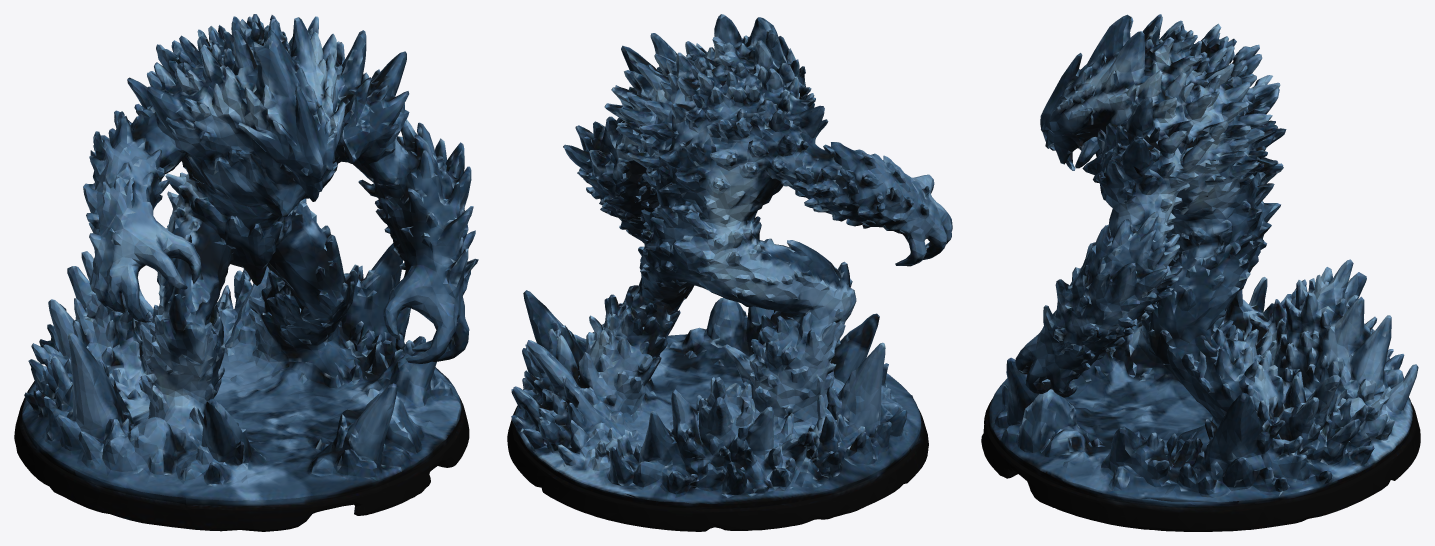
File: elemental_gelo.glb
3 views of the same model, side by side, from view 1: azimuth 30°, elevation 25°; view 2: azimuth 150°, elevation 25°; view 3: azimuth 270°, elevation 25° (orthographic). The views are drawn at different scales.
Visible parts, largest first — view 1: tmprua6iiql.ply; view 2: tmprua6iiql.ply; view 3: tmprua6iiql.ply.
Boxes of the visible parts, x1,y1,x2,y2 form: tmprua6iiql.ply: [14, 14, 478, 531]; tmprua6iiql.ply: [507, 14, 952, 531]; tmprua6iiql.ply: [981, 14, 1420, 531].
Bounding box in the file's own units: 1.85 × 1.96 × 1.85.
Materials: 1 (1 with a texture image).
